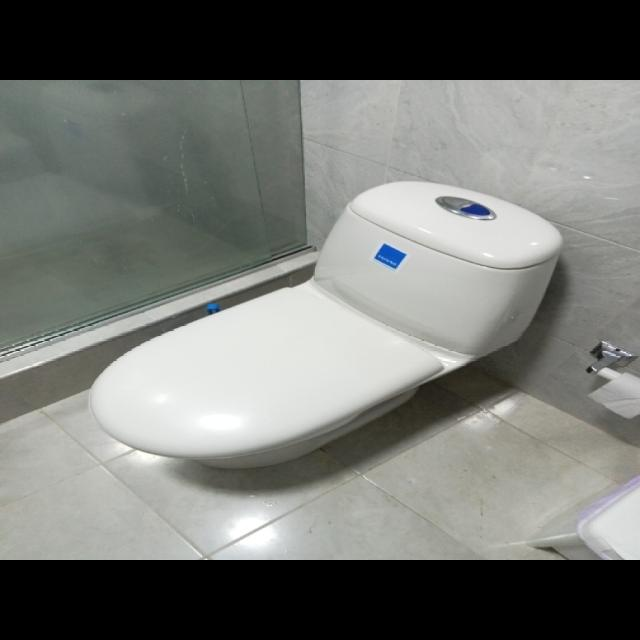toilet: (88, 179, 562, 470)
